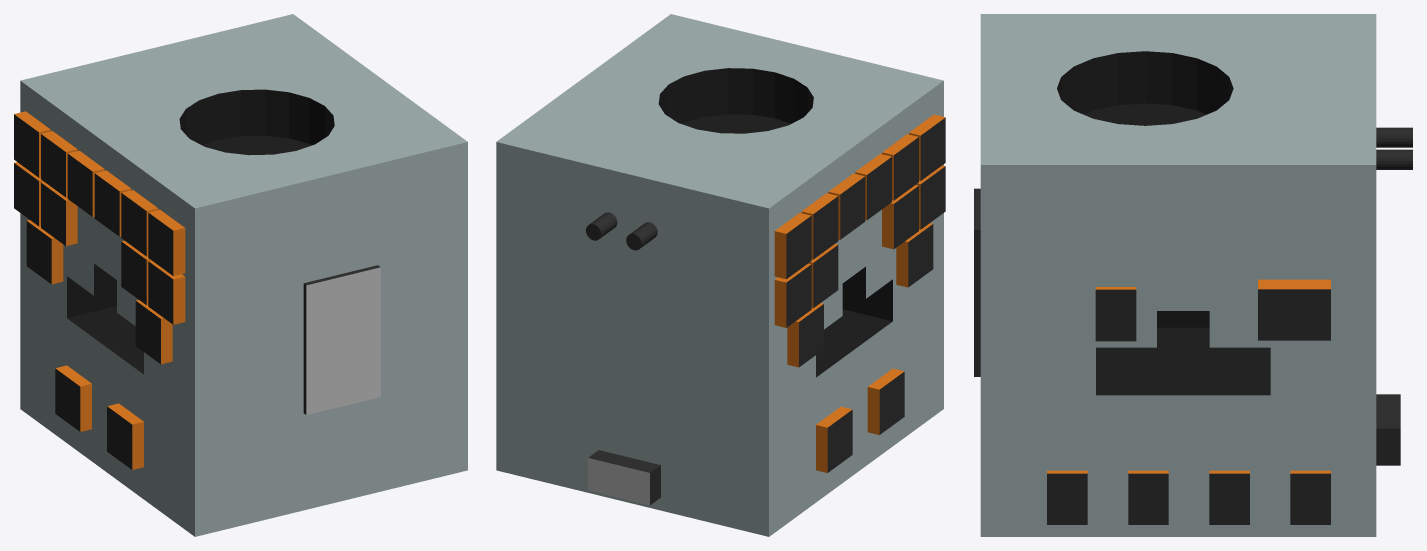
The model's file is bus.gltf.
3 renders of one model, left to right at view 1: azimuth 30°, elevation 25°; view 2: azimuth 150°, elevation 25°; view 3: azimuth 270°, elevation 25°, orthographic. The views are drawn at different scales.
Parts seen in each view (by area): view 1: Psyche_Spacecraft_-_Bus; view 2: Psyche_Spacecraft_-_Bus; view 3: Psyche_Spacecraft_-_Bus.
Boxes of the visible parts, x1,y1,x2,y2 form: Psyche_Spacecraft_-_Bus: [14, 14, 467, 536]; Psyche_Spacecraft_-_Bus: [496, 14, 945, 536]; Psyche_Spacecraft_-_Bus: [974, 14, 1412, 536].
Size of the model in its own units: 0.487 by 0.506 by 0.541.
